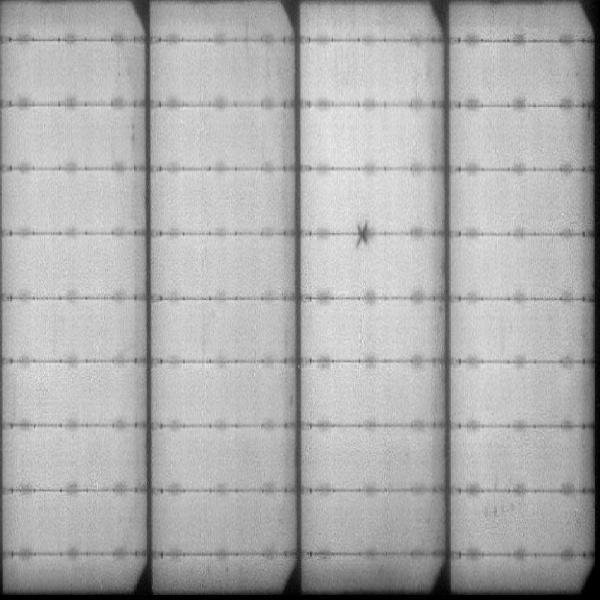scratch: (358, 221, 370, 250)
